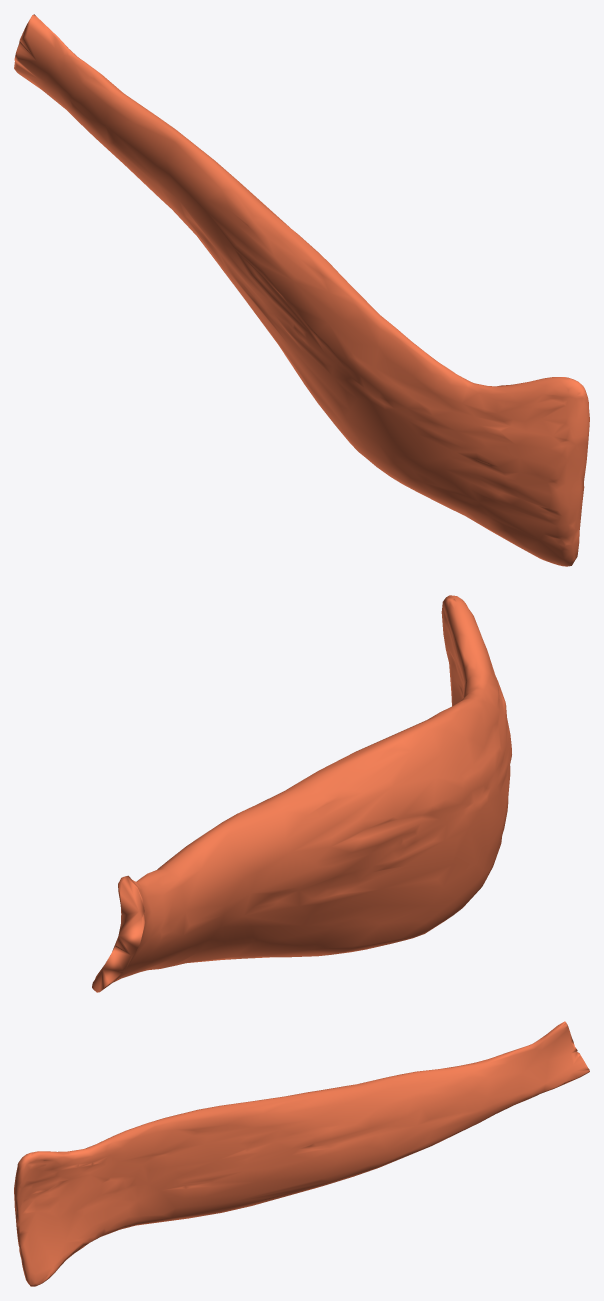
File: Medial_rectus_left.glb
3 views of the same model, one above another, from view 1: azimuth 30°, elevation 25°; view 2: azimuth 150°, elevation 25°; view 3: azimuth 270°, elevation 25° (orthographic). The views are drawn at different scales.
Visible parts, largest first — view 1: Medial_rectus_muscle.l_grp1.007; view 2: Medial_rectus_muscle.l_grp1.007; view 3: Medial_rectus_muscle.l_grp1.007.
Boxes of the visible parts, x1,y1,x2,y2 form: Medial_rectus_muscle.l_grp1.007: (14,14,589,566); Medial_rectus_muscle.l_grp1.007: (92,595,511,992); Medial_rectus_muscle.l_grp1.007: (14,1021,589,1286).
Bounding box in the file's own units: 0.01 × 0.0166 × 0.0404.
